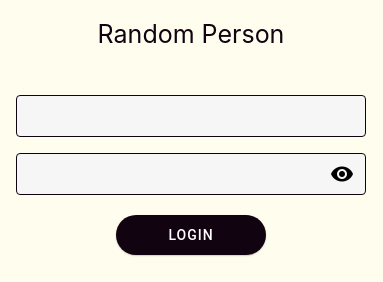
Scenario: should show user error message if password not valid
Type "aa" into the field with test id "usernameInput" at (191, 117), box left=16, top=97, right=366, bottom=137
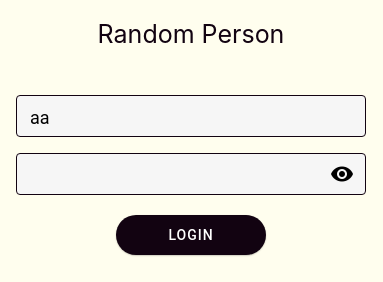
Click the button with test id "loginButton" at (191, 235), box left=116, top=215, right=266, bottom=255
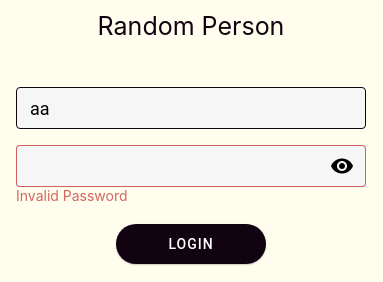
Now the text "Invalid Password" is shown, box left=16, top=186, right=128, bottom=204
